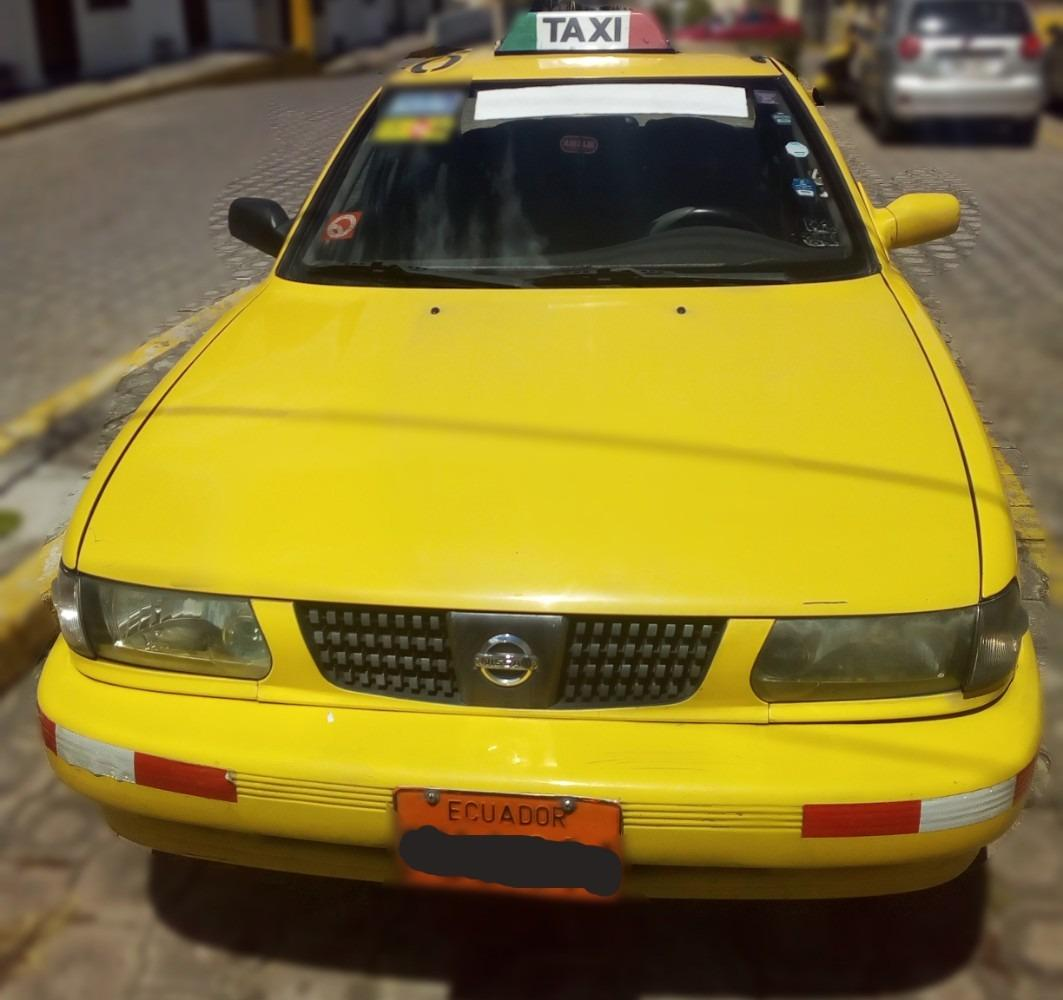taxi: (91, 24, 1063, 937)
